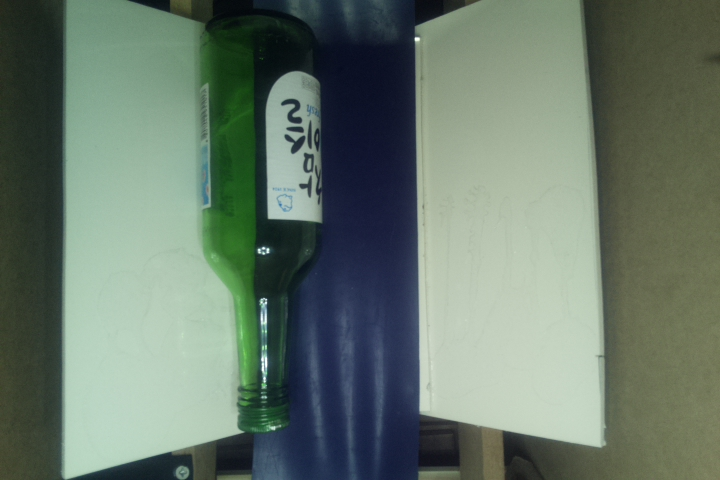soju: (195, 7, 320, 433)
